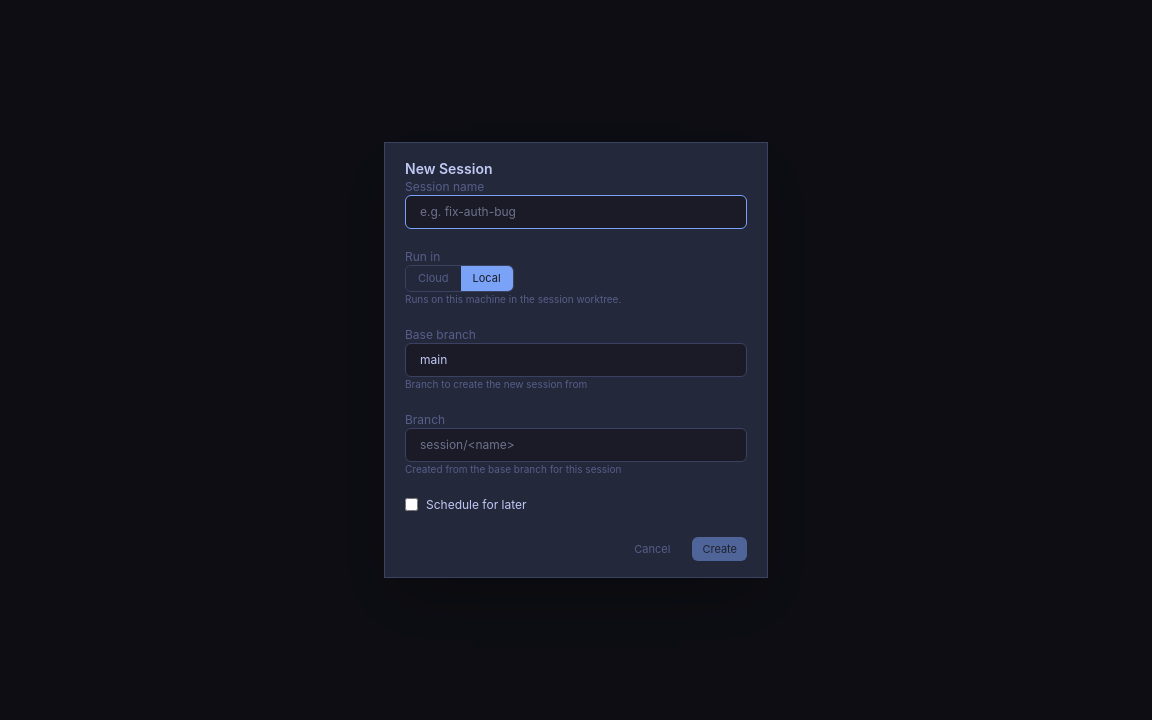
<CreateSessionDialog> branch field › refuses an existing branch
In the field labelled "Session name": (576, 212) [405,195,747,229], type "x"
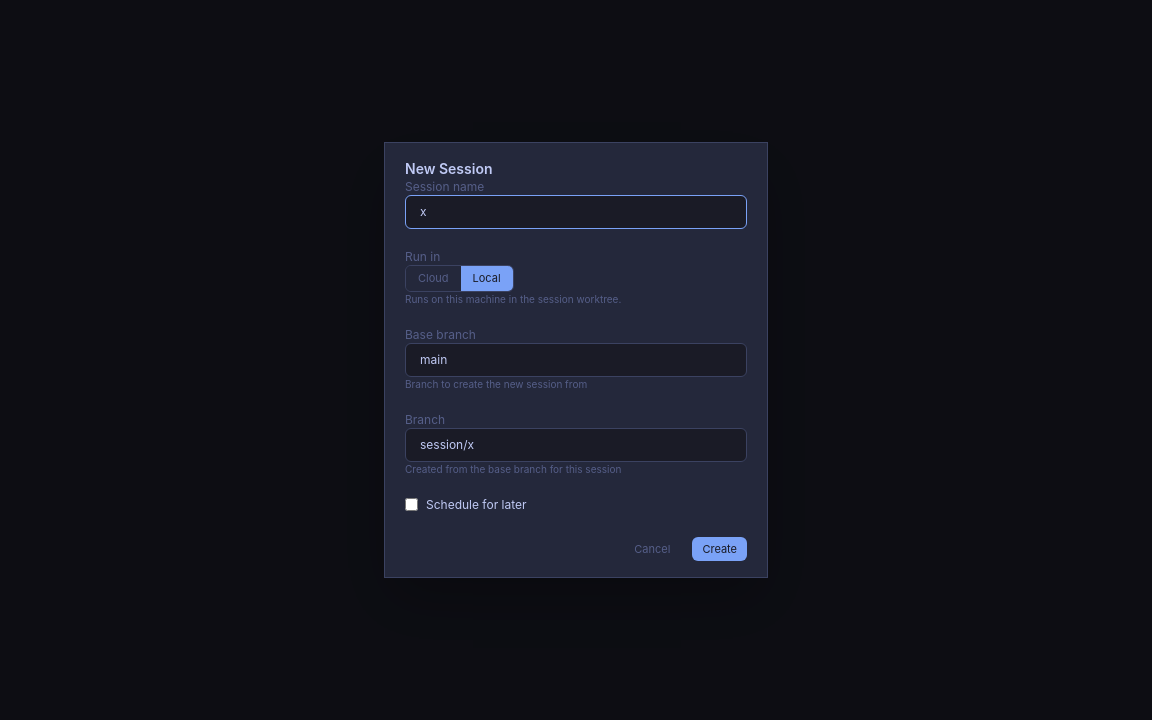
Replace the text in the field labelled "Branch" with "main": (576, 444) [405,428,747,462]
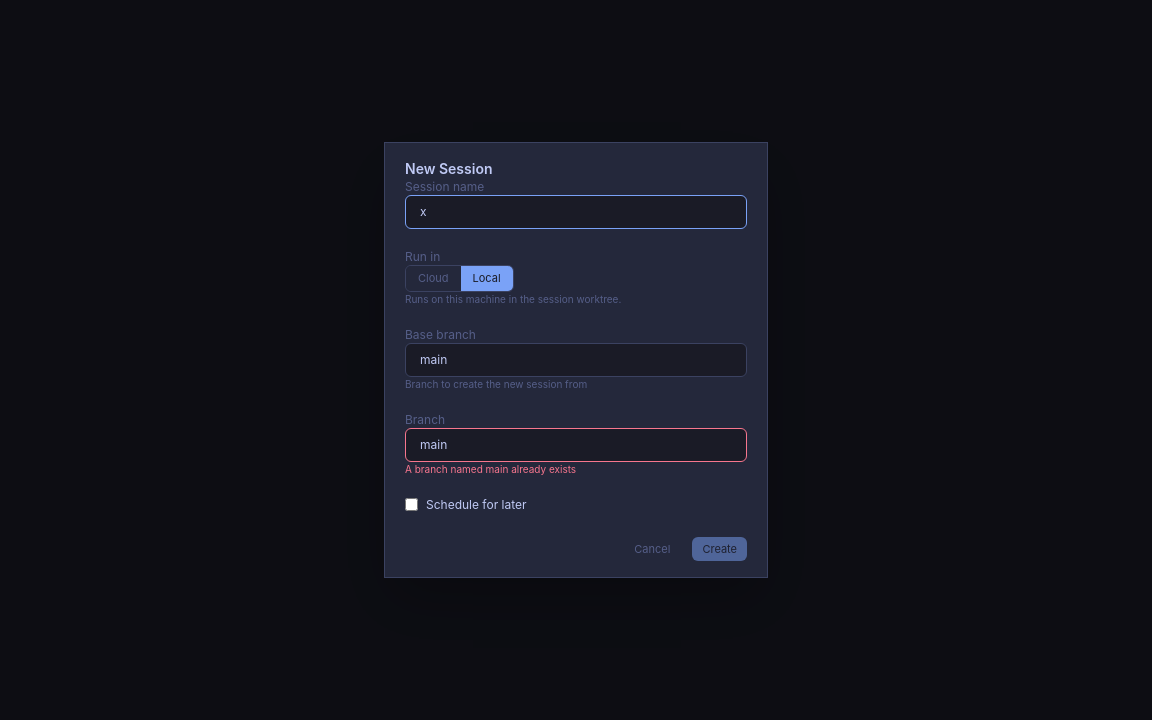
Now the text "A branch named main already exists" is shown, box [405,462,576,474]
